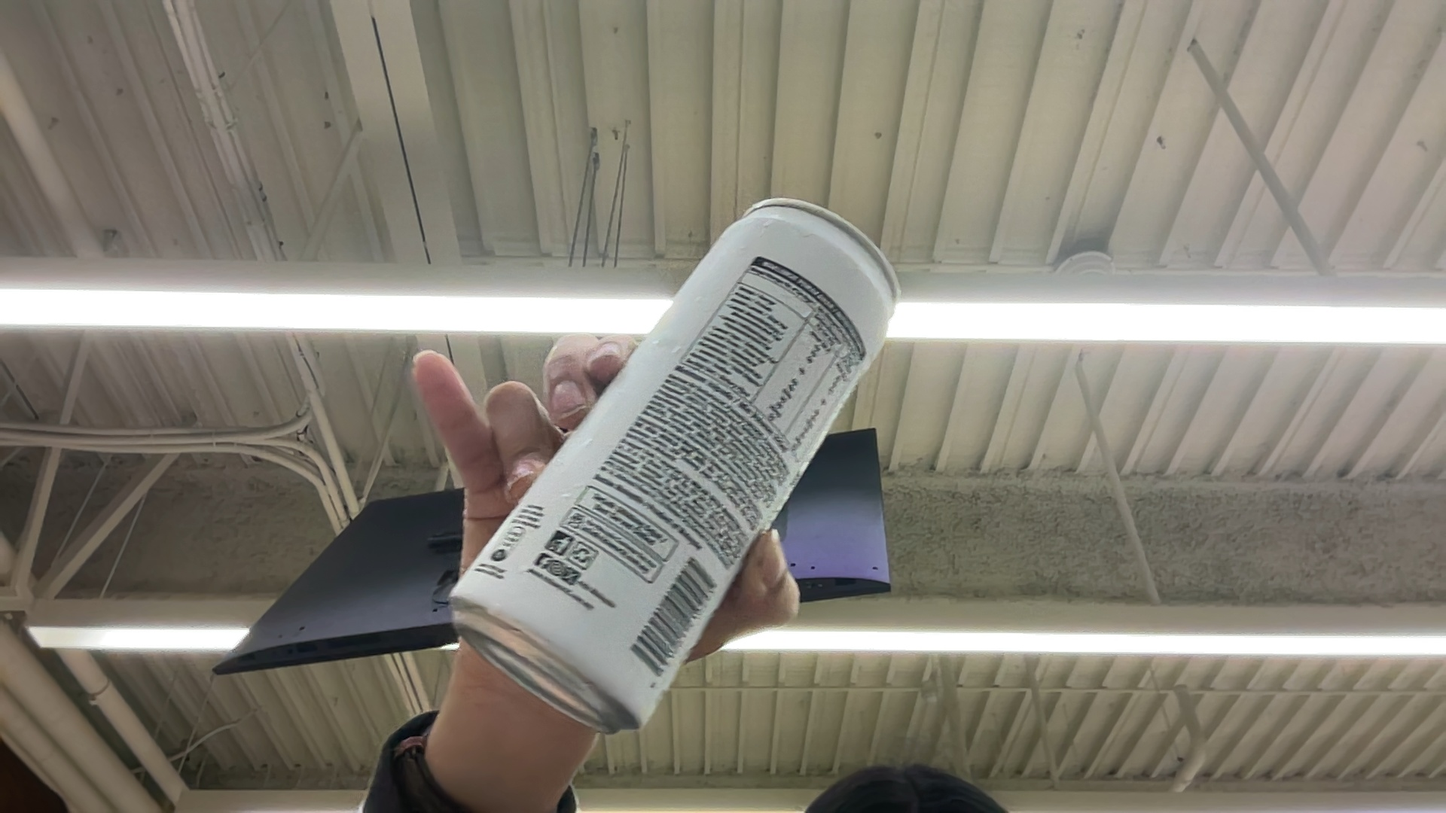Metal: (381, 193, 961, 756)
